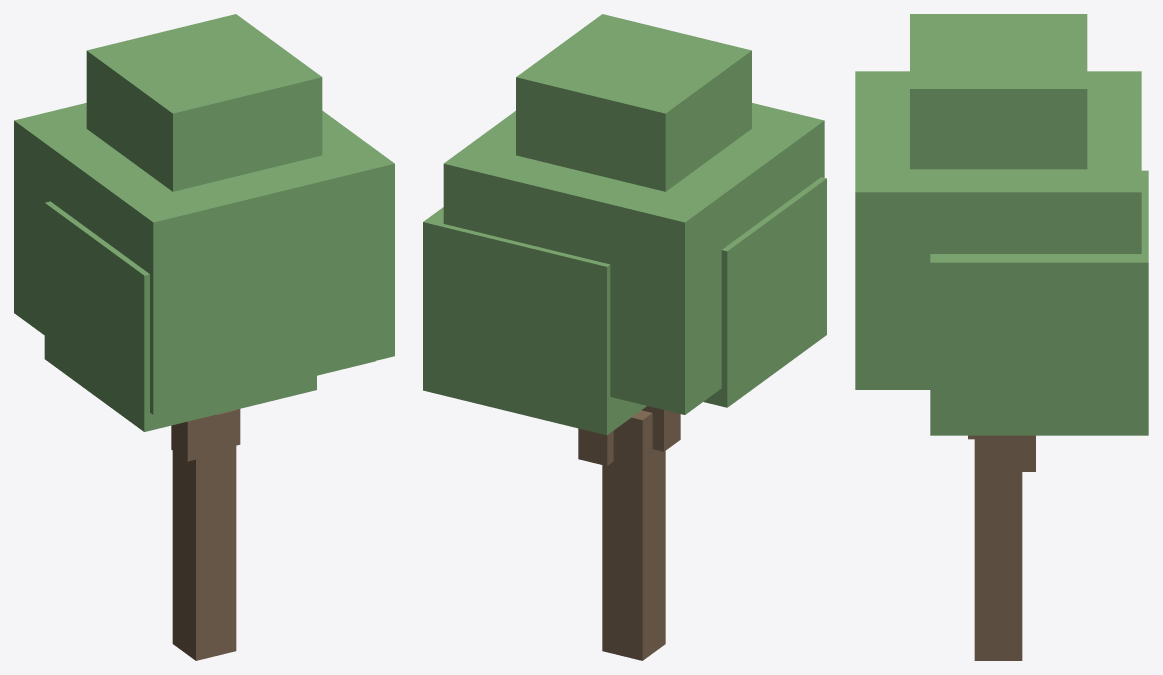
The model's file is tree_oak.glb.
The picture shows the model from 3 angles, left to right: view 1: azimuth 30°, elevation 25°; view 2: azimuth 150°, elevation 25°; view 3: azimuth 270°, elevation 25°; orthographic projection. The views are drawn at different scales.
Visible parts, largest first — view 1: TreeOak; view 2: TreeOak; view 3: TreeOak.
Part boxes in pixels (box(x1,y1,x2,y2)): TreeOak: box(14, 14, 394, 660); TreeOak: box(423, 14, 826, 660); TreeOak: box(855, 14, 1148, 660).
Size of the model in its own units: 4.6 by 9.7 by 4.3.
